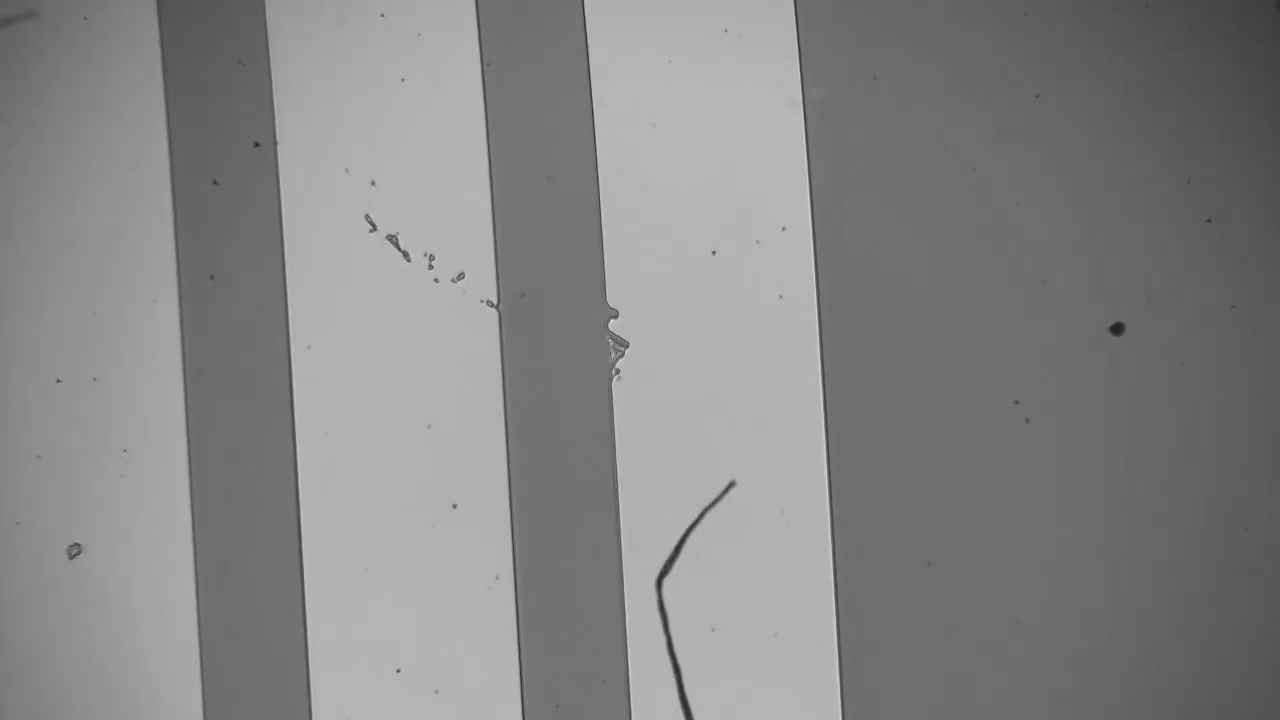edge_bite: (595, 325, 646, 385), (596, 302, 625, 329)
